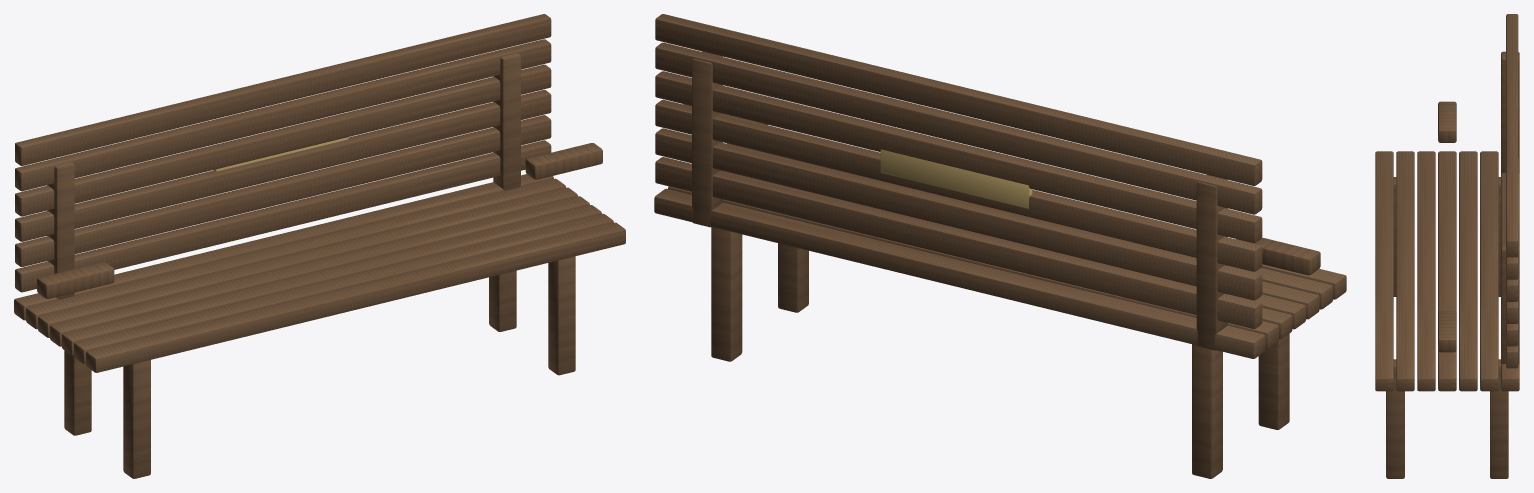
The model's file is bench_high_end.glb.
The picture shows the model from 3 angles, left to right: view 1: azimuth 30°, elevation 25°; view 2: azimuth 150°, elevation 25°; view 3: azimuth 270°, elevation 25°; orthographic projection. The views are drawn at different scales.
Parts seen in each view (by area): view 1: Bench_BackSlat_6, Bench_SeatSlat_1, Bench_BackSlat_5, Bench_BackSlat_4, Bench_BackSlat_2, Bench_BackSlat_3, Bench_BackSlat_1, Bench_SeatSlat_3, Bench_SeatSlat_4, Bench_SeatSlat_2, Bench_SeatSlat_5, Bench_SeatSlat_6 (+9 smaller); view 2: Bench_BackSlat_6, Bench_BackSlat_5, Bench_BackSlat_2, Bench_BackSlat_1, Bench_SeatSlat_7, Bench_BackSlat_4, Bench_BackSlat_3, Bench_Leg_2_2, Bench_Leg_1_2, Bench_BackPost_L, Bench_BackPost_R, Bench_MemorialPlaque (+8 smaller); view 3: Bench_SeatSlat_1, Bench_SeatSlat_2, Bench_SeatSlat_3, Bench_SeatSlat_5, Bench_SeatSlat_6, Bench_SeatSlat_4, Bench_BackSlat_6, Bench_Leg_2_1, Bench_Leg_2_2, Bench_SeatSlat_7, Bench_BackPost_L, Bench_BackPost_R (+9 smaller).
Part boxes in pixels (left/top/right/bottom): Bench_BackSlat_6: left=15, top=14, right=551, bottom=165; Bench_SeatSlat_1: left=86, top=222, right=625, bottom=372; Bench_BackSlat_5: left=15, top=39, right=551, bottom=191; Bench_BackSlat_4: left=15, top=64, right=551, bottom=216; Bench_BackSlat_2: left=15, top=115, right=551, bottom=266; Bench_BackSlat_3: left=15, top=90, right=551, bottom=241; Bench_BackSlat_1: left=15, top=140, right=551, bottom=292; Bench_SeatSlat_3: left=62, top=205, right=601, bottom=355; Bench_SeatSlat_4: left=50, top=196, right=589, bottom=346; Bench_SeatSlat_2: left=74, top=213, right=613, bottom=364; Bench_SeatSlat_5: left=38, top=187, right=577, bottom=337; Bench_SeatSlat_6: left=26, top=178, right=565, bottom=329; Bench_BackSlat_6: left=655, top=14, right=1262, bottom=185; Bench_BackSlat_5: left=655, top=42, right=1262, bottom=214; Bench_BackSlat_2: left=655, top=128, right=1262, bottom=300; Bench_BackSlat_1: left=655, top=157, right=1262, bottom=328; Bench_SeatSlat_7: left=654, top=188, right=1265, bottom=358; Bench_BackSlat_4: left=655, top=71, right=1262, bottom=243; Bench_BackSlat_3: left=655, top=99, right=1262, bottom=271; Bench_Leg_2_2: left=711, top=227, right=742, bottom=361; Bench_Leg_1_2: left=1192, top=344, right=1222, bottom=478; Bench_BackPost_L: left=1196, top=174, right=1227, bottom=350; Bench_BackPost_R: left=692, top=51, right=722, bottom=227; Bench_MemorialPlaque: left=880, top=149, right=1032, bottom=208; Bench_SeatSlat_1: left=1375, top=151, right=1393, bottom=391; Bench_SeatSlat_2: left=1396, top=151, right=1414, bottom=391; Bench_SeatSlat_3: left=1417, top=151, right=1435, bottom=391; Bench_SeatSlat_5: left=1459, top=151, right=1477, bottom=391; Bench_SeatSlat_6: left=1480, top=151, right=1498, bottom=391; Bench_SeatSlat_4: left=1438, top=151, right=1456, bottom=391; Bench_BackSlat_6: left=1506, top=14, right=1518, bottom=257; Bench_Leg_2_1: left=1386, top=359, right=1404, bottom=478; Bench_Leg_2_2: left=1490, top=359, right=1508, bottom=478; Bench_SeatSlat_7: left=1501, top=173, right=1519, bottom=391; Bench_BackPost_L: left=1501, top=51, right=1519, bottom=173; Bench_BackPost_R: left=1501, top=243, right=1519, bottom=364.
Size of what is drawn, in the model's own units: 1.95 by 0.9823 by 0.4997.
Materials: 2 (1 with a texture image).
